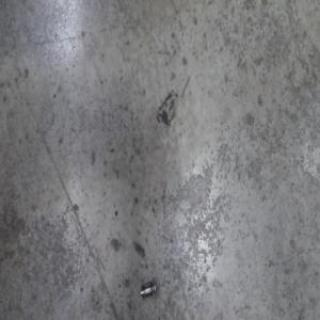Bolttrack_idkeyframe: (139, 278, 157, 300)
